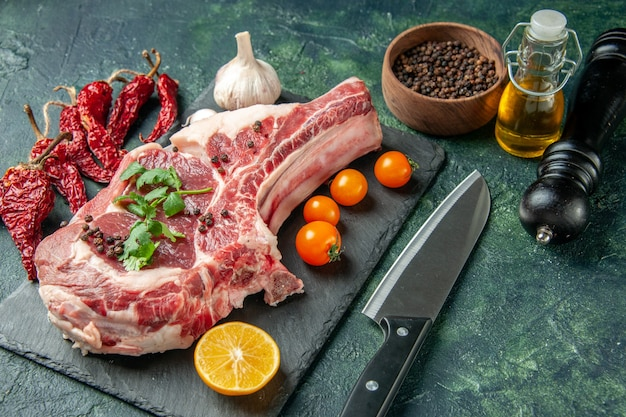knife: (335, 167, 492, 417)
